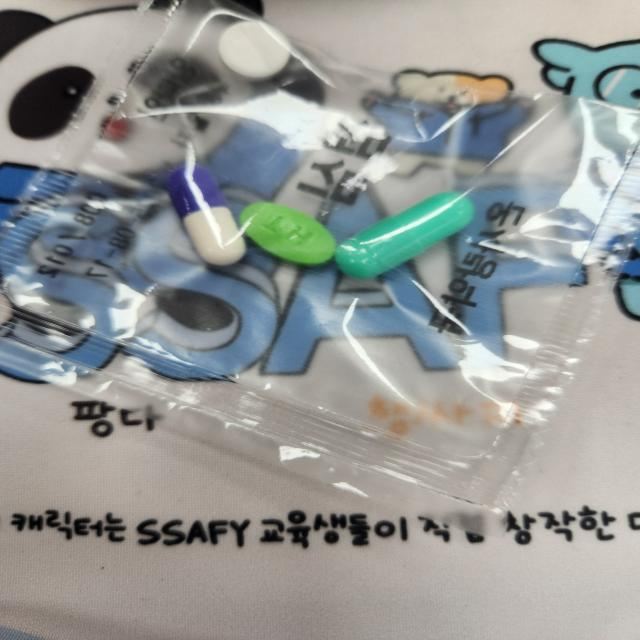러키펜정: (219, 20, 294, 82)
씨엠지세파클러캡슐: (169, 161, 245, 267)
에르도캡슐: (336, 193, 476, 281)
휴티렌정: (239, 202, 337, 269)
